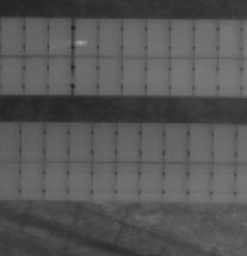solar: (21, 16, 50, 58), (45, 16, 74, 58), (72, 16, 101, 58), (95, 16, 124, 58), (119, 16, 148, 58), (143, 17, 172, 59), (168, 17, 197, 59), (191, 17, 220, 59), (215, 17, 244, 59), (216, 56, 245, 98), (190, 56, 219, 98), (166, 56, 195, 98), (143, 55, 172, 97), (118, 55, 147, 97), (94, 55, 123, 97), (71, 55, 100, 97), (43, 55, 72, 97), (20, 55, 49, 97), (114, 120, 143, 162), (139, 121, 168, 163), (163, 121, 192, 163), (186, 121, 215, 163), (211, 123, 240, 165), (18, 159, 47, 201), (42, 159, 71, 201), (65, 159, 94, 201), (90, 159, 119, 201), (114, 159, 143, 201), (137, 159, 166, 201), (162, 161, 191, 203), (186, 161, 215, 203), (211, 161, 240, 203), (18, 120, 46, 162), (43, 120, 71, 162), (66, 120, 94, 162), (90, 120, 118, 162), (1, 55, 28, 97), (1, 15, 28, 57)
